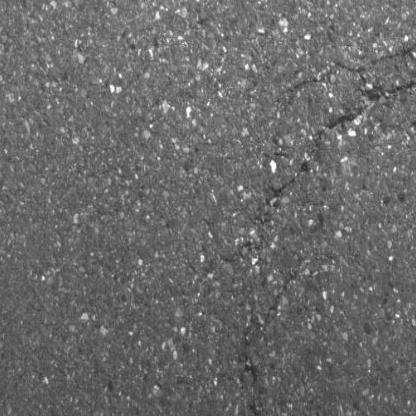Cracks: (263, 101, 376, 209), (282, 21, 416, 98), (240, 269, 302, 416), (381, 77, 416, 103)
